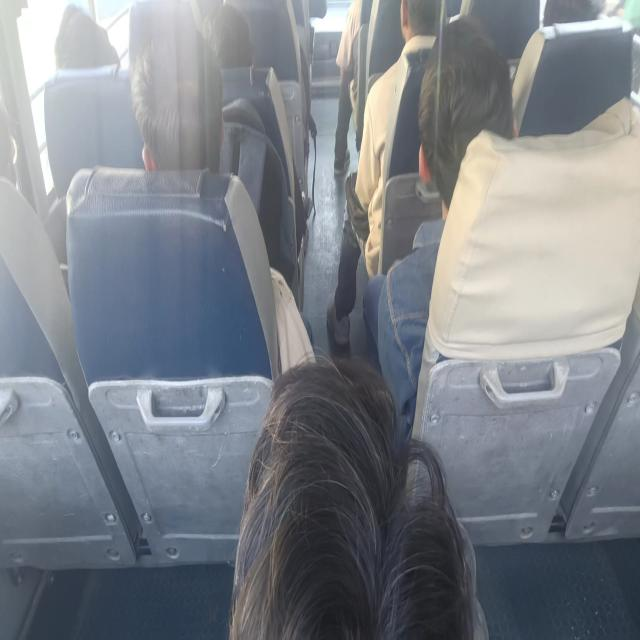person: (232, 372, 483, 640), (415, 37, 507, 199), (130, 34, 226, 171), (48, 0, 117, 75), (199, 0, 251, 69), (532, 0, 608, 39), (386, 0, 448, 47)
